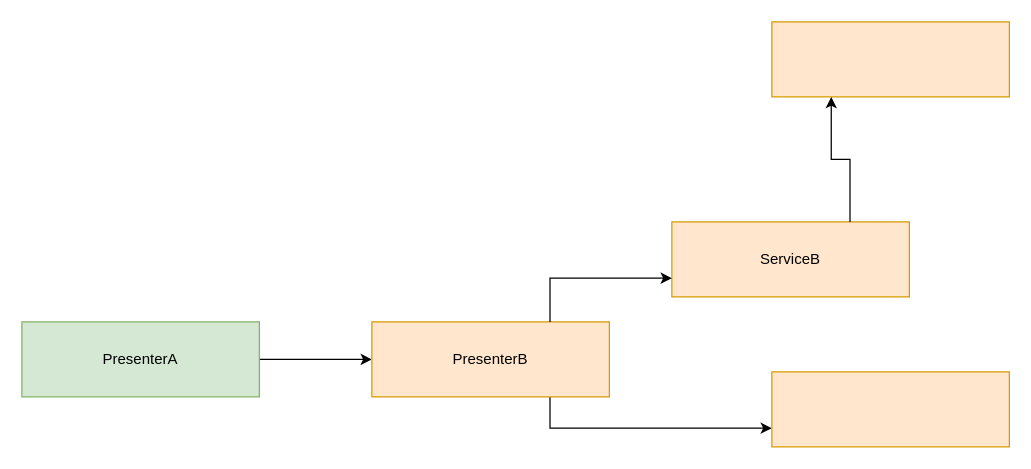
Some shapes in this 1031 by 469 pixel diagram are drawn without their labels. The box of each missing label's shape, as (x1, y1, x2, y2) in pixels:
RepositoryB: (771, 21, 1009, 97)
ViewB: (771, 371, 1009, 447)
